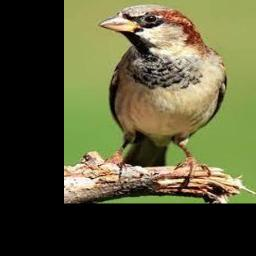Sparrow: (98, 5, 227, 182)
